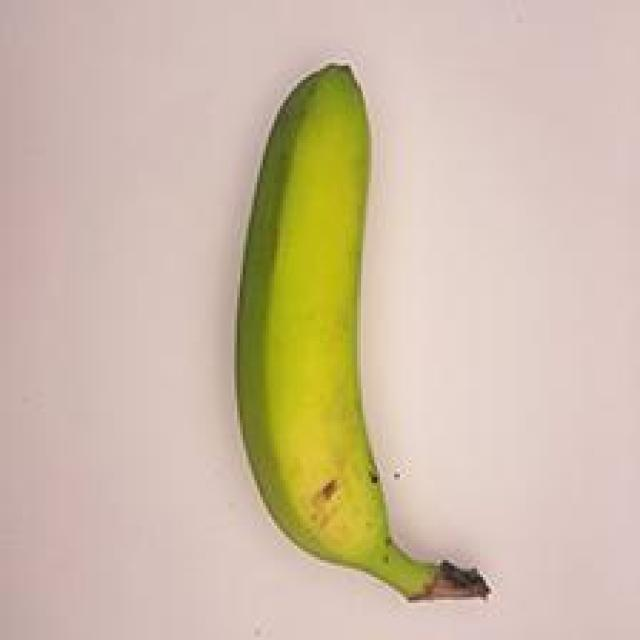Unripe: (196, 45, 511, 621)
